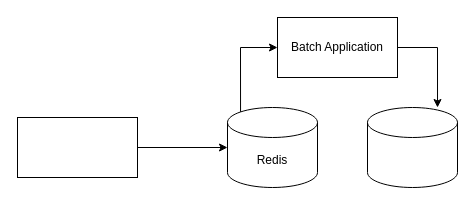
Some shapes in this 475 by 205 pixel diagram are drawn without their labels. The centre of each missing label's shape, as x and y in pixels:
"Application" belongs at point 77,147.
"MySQL" belongs at point 412,147.
